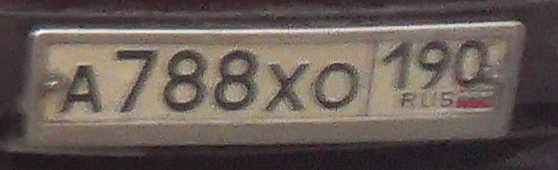character: (111, 42, 161, 117), (210, 44, 260, 118), (161, 43, 209, 117), (264, 55, 312, 120), (312, 56, 362, 115), (59, 61, 105, 118), (452, 31, 490, 90), (382, 37, 415, 93), (418, 39, 452, 93)
